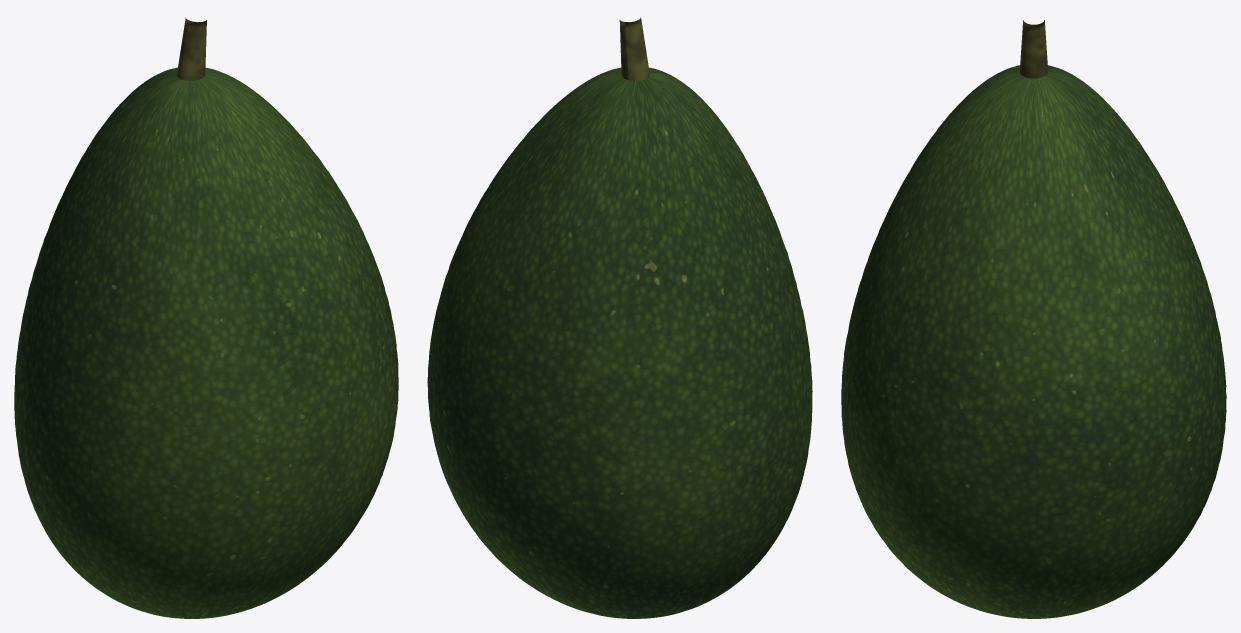
Rendered from avocat.glb.
3 views of the same model, side by side, from view 1: azimuth 30°, elevation 25°; view 2: azimuth 150°, elevation 25°; view 3: azimuth 270°, elevation 25° (orthographic).
Visible parts, largest first — view 1: moitie_A_peau, entier_peau, moitie_B_peau, entier_extra0; view 2: entier_peau, moitie_B_peau, moitie_A_peau, entier_extra0; view 3: moitie_A_peau, entier_peau, moitie_B_peau, entier_extra0.
Boxes of the visible parts, x1,y1,x2,y2 form: moitie_A_peau: [40, 72, 398, 618]; entier_peau: [14, 68, 397, 617]; moitie_B_peau: [14, 67, 240, 576]; entier_extra0: [177, 17, 206, 80]; entier_peau: [427, 71, 801, 618]; moitie_B_peau: [428, 72, 786, 618]; moitie_A_peau: [586, 67, 812, 582]; entier_extra0: [619, 17, 649, 80]; moitie_A_peau: [841, 65, 1033, 618]; entier_peau: [851, 65, 1226, 618]; moitie_B_peau: [1034, 65, 1226, 618]; entier_extra0: [1019, 20, 1048, 78].
Bounding box in the file's own units: 0.0788 × 0.1321 × 0.0787.
3 materials, 3 textured.
